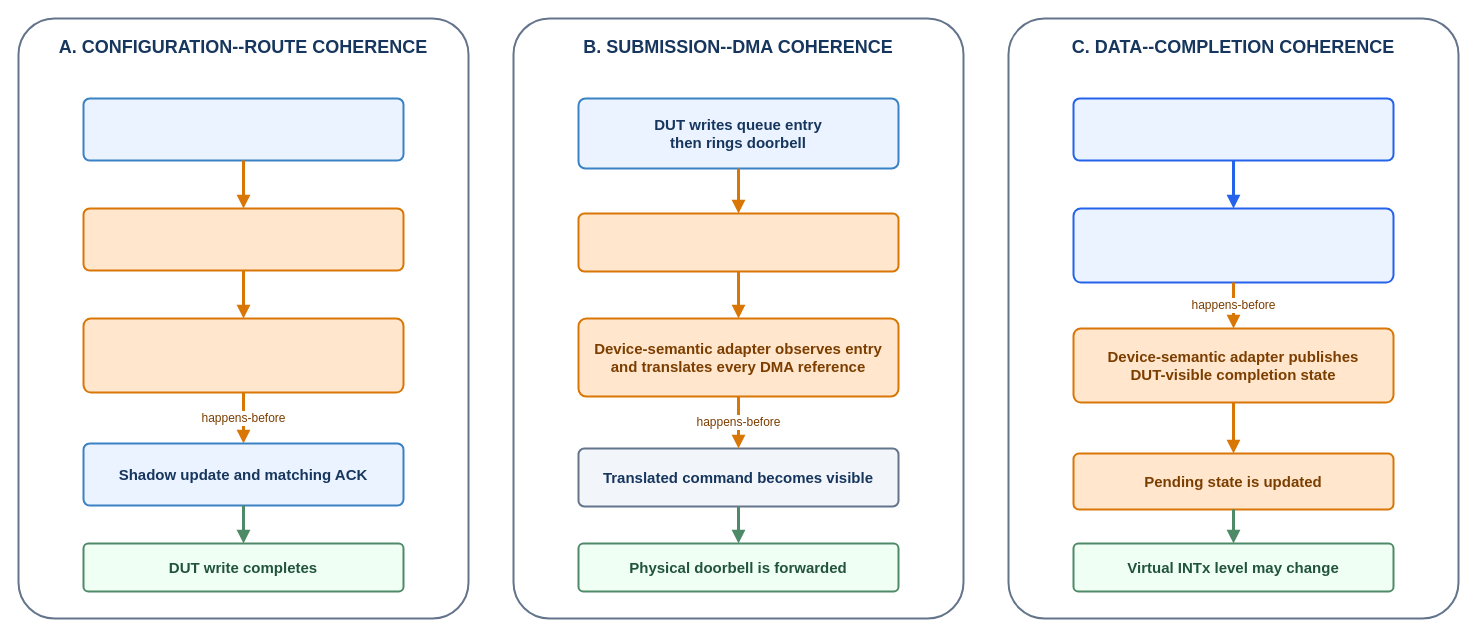
Some shapes in this 1476 by 636 pixel diagram are drawn without their labels. The shapes that lost their labels are listed below. From the top down, each one's centre as x and y in pixels, then its label:
At point 243,129: "DUT issues configuration write".
At point 1233,129: "Physical device completes DMA".
At point 243,239: "FPGA emits ordered control event".
At point 738,242: "FPGA accepts BAR event".
At point 1233,245: "Payload and writebacks become visible in DUT memory".
At point 243,355: "Host software back-end updates image and affected BAR route".
